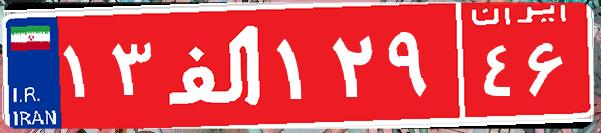1: (273, 28, 330, 110), (57, 26, 110, 107)
2: (330, 28, 385, 110)
3: (110, 28, 158, 105)
4: (475, 38, 525, 113)
6: (525, 38, 570, 115)
9: (385, 28, 445, 110)
الف: (158, 15, 273, 115)
